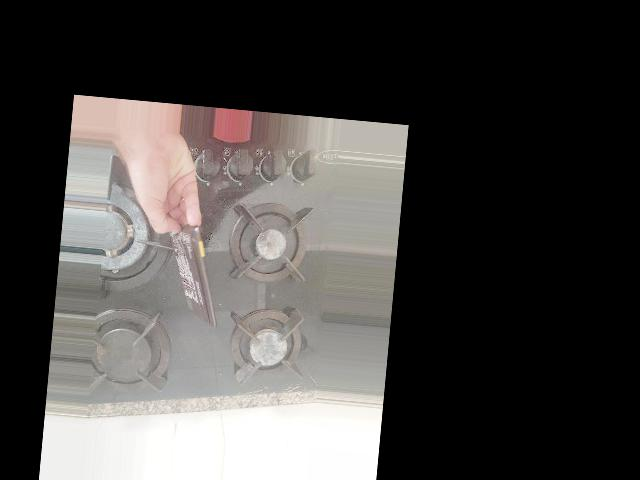chocolate: (159, 213, 228, 328)
